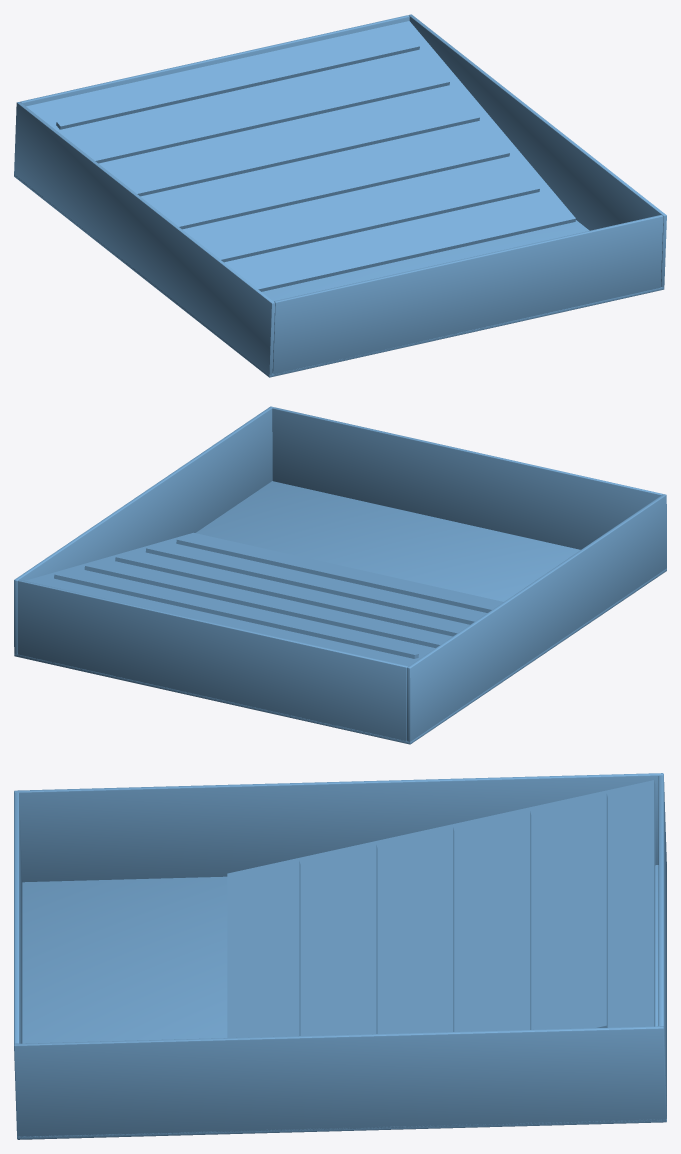
Rendered from PIN-FER-003_anim.glb.
3 renders of one model, top to bottom at view 1: azimuth 30°, elevation 25°; view 2: azimuth 150°, elevation 25°; view 3: azimuth 270°, elevation 25°, orthographic. The views are drawn at different scales.
Parts seen in each view (by area): view 1: PIN-FER-003_anim0; view 2: PIN-FER-003_anim0; view 3: PIN-FER-003_anim0.
Boxes of the visible parts, x1=… form: PIN-FER-003_anim0: x1=14, y1=14, x2=666, y2=377; PIN-FER-003_anim0: x1=14, y1=406, x2=666, y2=744; PIN-FER-003_anim0: x1=14, y1=773, x2=666, y2=1139.
Size of the model in its own units: 0.3313 by 0.0776 by 0.3716.
